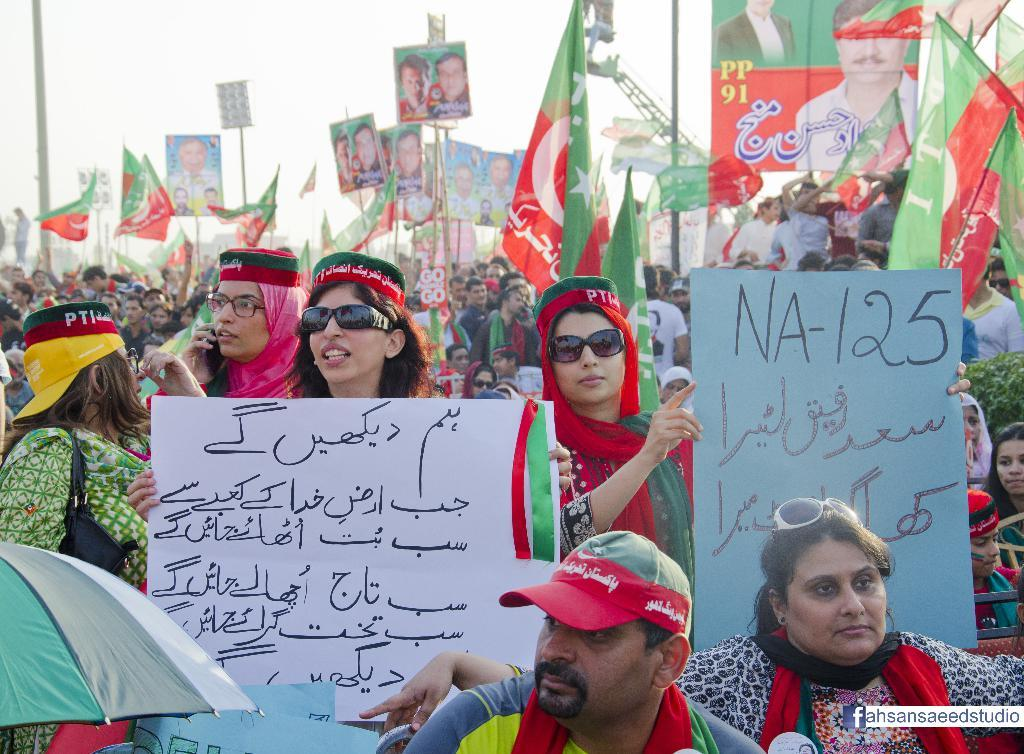Hat: (498, 530, 690, 630), (12, 300, 126, 430)
